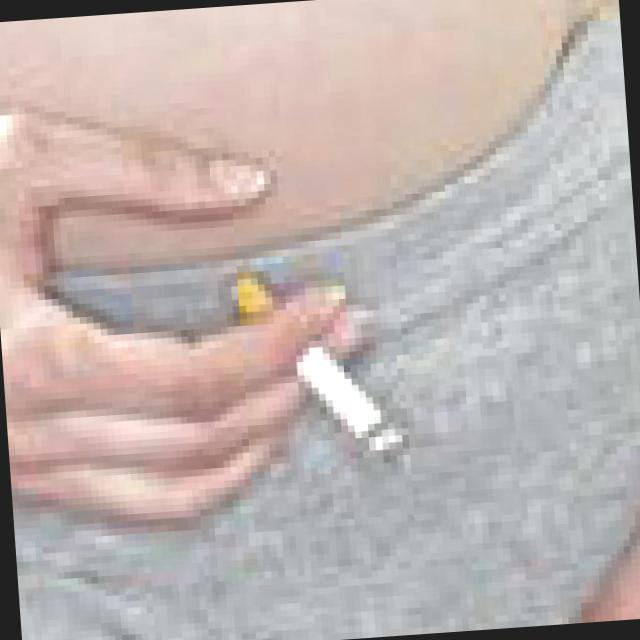cigarette: (209, 248, 403, 466)
